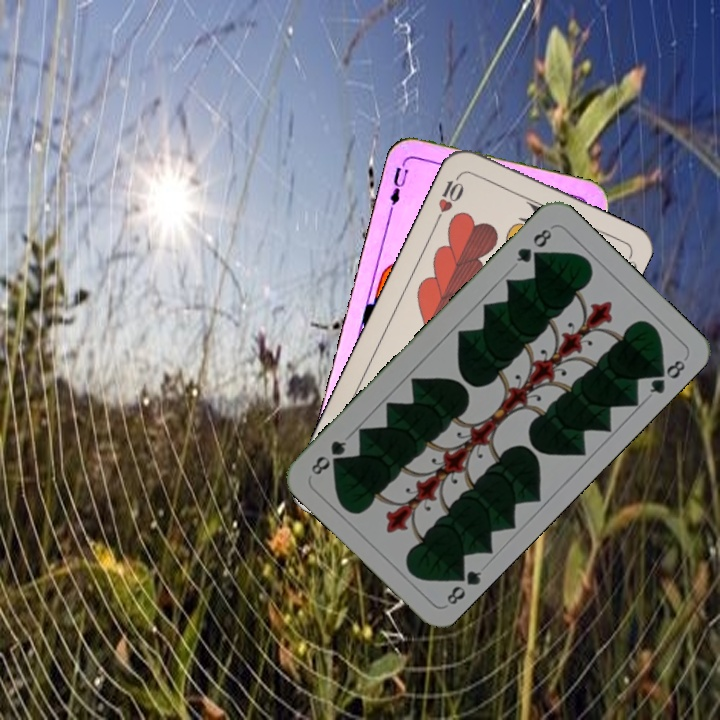EU: (385, 156, 411, 214)
G8: (442, 563, 485, 608), (512, 224, 555, 266)
H10: (432, 169, 467, 225)
